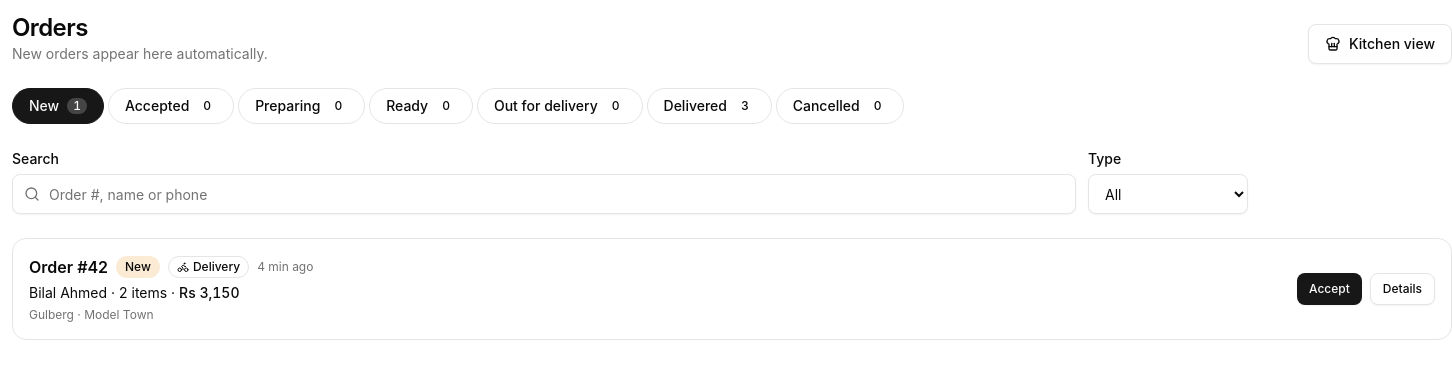
Test case: OrdersPage › shows why a transition failed
The width and height of the screenshot is (1452, 378).
Click the button with aria-label "Accept order #42" at (1329, 289), box [1297,273,1362,305]
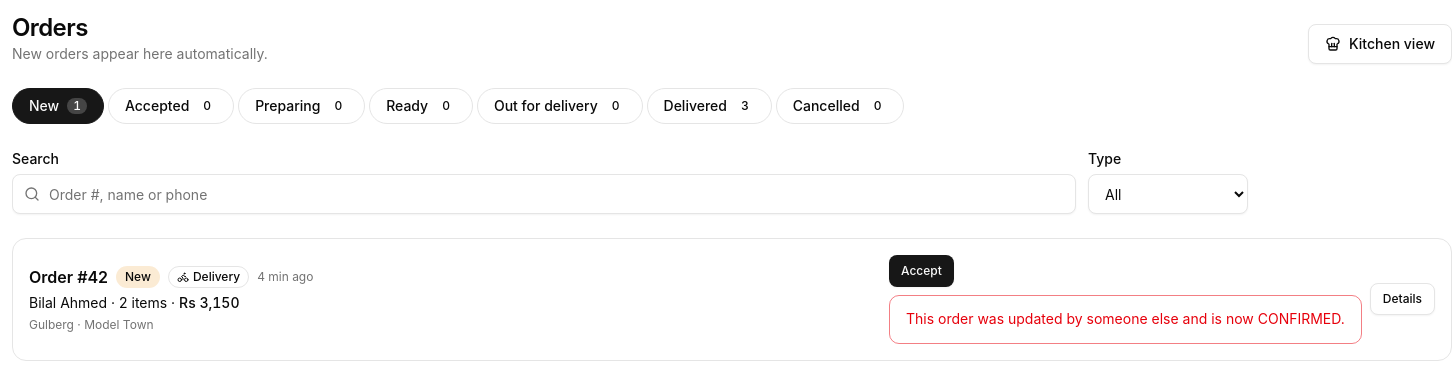
Expected: the text "This order was updated by someone else and is now CONFIRMED." is shown, [906,308,1345,331]
